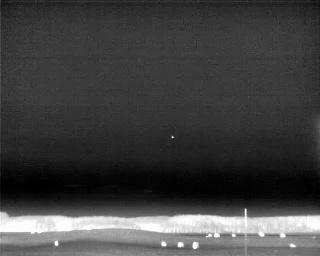BIRD: (170, 133, 176, 141)
